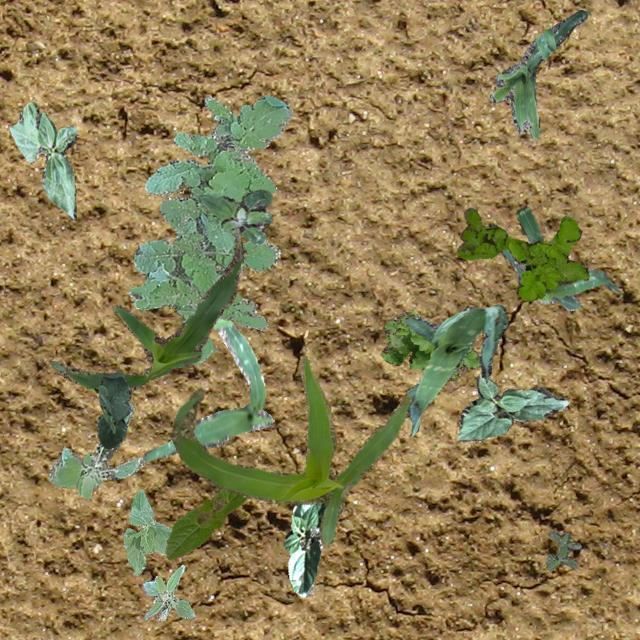crop: (170, 354, 410, 546), (49, 240, 246, 392), (142, 316, 274, 461), (488, 204, 618, 310), (402, 304, 507, 434), (488, 8, 586, 138), (8, 102, 76, 218), (456, 374, 568, 441), (165, 486, 246, 558), (282, 502, 326, 596), (122, 488, 170, 574), (96, 370, 130, 448)
weed: (128, 94, 290, 364), (456, 206, 588, 300), (48, 402, 144, 498), (380, 310, 480, 376), (198, 188, 272, 244), (142, 564, 194, 620), (546, 530, 580, 570)
